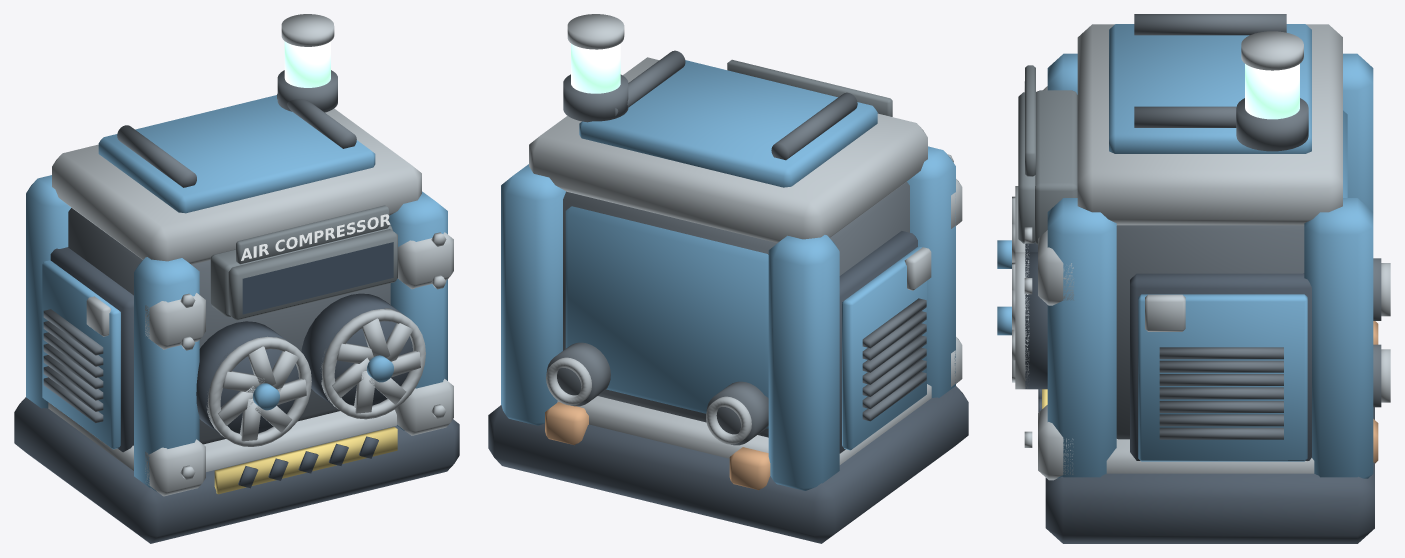
File: air_compressor_ultra.glb
3 renders of one model, left to right at view 1: azimuth 30°, elevation 25°; view 2: azimuth 150°, elevation 25°; view 3: azimuth 270°, elevation 25°, orthographic. The views are drawn at different scales.
Visible parts, largest first — view 1: Frame_blue_legacy_4, Base_black_legacy_0, TopCap_steel_legacy_10, RoofPanel_blue_legacy_11, CornerGuard_steel_legacy_5, FanBlade_steel_legacy_15, Fan_black_legacy_13, Housing_dark_legacy_2, FanGuard_steel_legacy_14, ServiceDoor_blue_legacy_7, LiveViewSurface_glass, Skirt_steel_legacy_1 (+15 smaller); view 2: Frame_blue_legacy_4, Armor_blue_legacy_3, Base_black_legacy_0, TopCap_steel_legacy_10, RoofPanel_blue_legacy_11, Housing_dark_legacy_2, ServiceDoor_blue_legacy_7, SideVents_dark_legacy_8, Skirt_steel_legacy_1, RearPort_dark_legacy_26, LiftRail_dark_legacy_12, RearPort_copper_legacy_29 (+8 smaller); view 3: Frame_blue_legacy_4, TopCap_steel_legacy_10, Base_black_legacy_0, ServiceDoor_blue_legacy_7, RoofPanel_blue_legacy_11, Housing_dark_legacy_2, SideVents_dark_legacy_8, SidePanel_black_legacy_6, LiftRail_dark_legacy_12, ScreenMount_frame, CornerGuard_steel_legacy_5, Skirt_steel_legacy_1 (+12 smaller).
Part boxes in pixels (x1,y1,x2,y2): Frame_blue_legacy_4: (26,175,447,491); Base_black_legacy_0: (14,397,459,543); TopCap_steel_legacy_10: (52,108,421,264); RoofPanel_blue_legacy_11: (98,95,375,213); CornerGuard_steel_legacy_5: (145,232,453,496); FanBlade_steel_legacy_15: (218,318,420,441); Fan_black_legacy_13: (196,293,412,433); Housing_dark_legacy_2: (68,208,390,444); FanGuard_steel_legacy_14: (206,308,425,446); ServiceDoor_blue_legacy_7: (42,260,120,449); LiveViewSurface_glass: (242,242,393,314); Skirt_steel_legacy_1: (48,402,396,471); Frame_blue_legacy_4: (501,146,955,490); Armor_blue_legacy_3: (565,206,768,428); Base_black_legacy_0: (488,386,968,543); TopCap_steel_legacy_10: (529,57,927,242); RoofPanel_blue_legacy_11: (579,60,877,187); Housing_dark_legacy_2: (563,182,909,437); ServiceDoor_blue_legacy_7: (842,246,926,450); SideVents_dark_legacy_8: (862,298,926,421); Skirt_steel_legacy_1: (557,384,931,464); RearPort_dark_legacy_26: (546,342,768,445); LiftRail_dark_legacy_12: (615,50,857,160); RearPort_copper_legacy_29: (545,402,770,490); Frame_blue_legacy_4: (1047,53,1373,478); TopCap_steel_legacy_10: (1077,24,1342,225); Base_black_legacy_0: (1045,407,1374,543); ServiceDoor_blue_legacy_7: (1138,294,1307,461); RoofPanel_blue_legacy_11: (1109,24,1311,153); Housing_dark_legacy_2: (1116,225,1304,439); SideVents_dark_legacy_8: (1159,347,1283,439); SidePanel_black_legacy_6: (1130,273,1311,460); LiftRail_dark_legacy_12: (1134,14,1286,127); ScreenMount_frame: (1035,90,1077,244); CornerGuard_steel_legacy_5: (1038,86,1073,480); Skirt_steel_legacy_1: (1106,439,1314,473).
Bounding box in the file's own units: 1.43 × 1.65 × 1.25.
